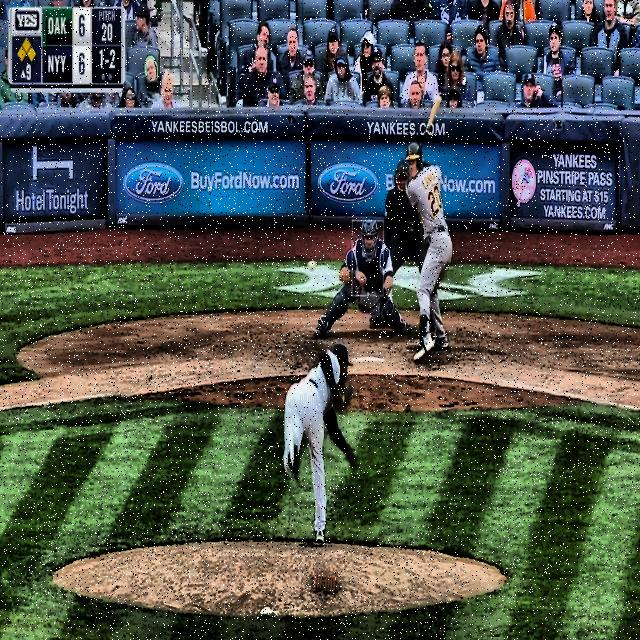baseball: (308, 258, 317, 273)
